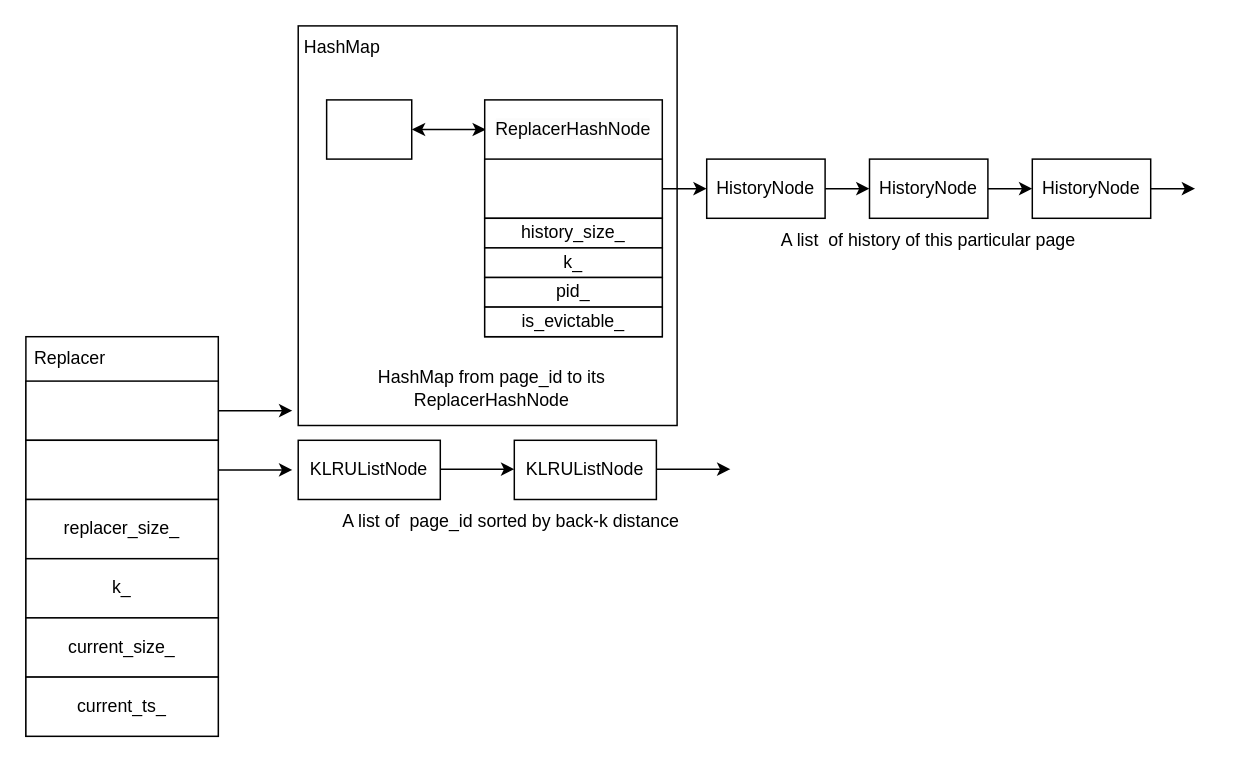
Image size: 1233x762. Some labels were removed from this diagram. The centre of each missing label's shape, as x and y in pixels:
"history_" belongs at pixel 572 188.
"list_" belongs at pixel 121 469.
"node_store_" belongs at pixel 121 410.
"page_id" belongs at pixel 368 128.
